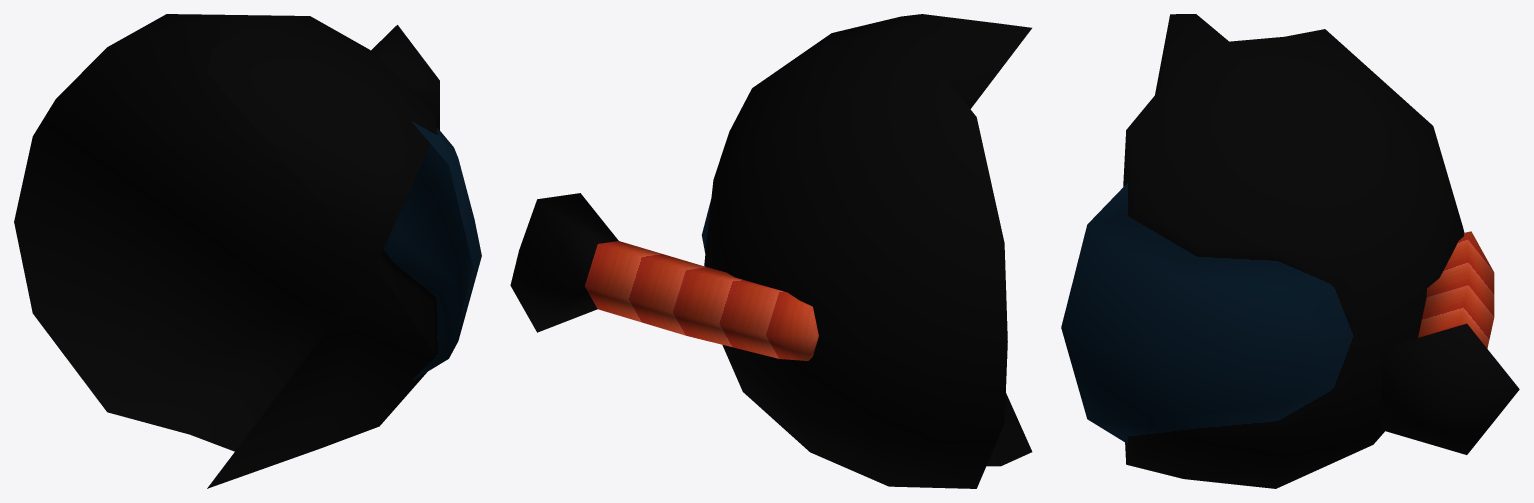
The model's file is hlmt_wig_samurai.dae.
3 renders of one model, left to right at view 1: azimuth 30°, elevation 25°; view 2: azimuth 150°, elevation 25°; view 3: azimuth 270°, elevation 25°, orthographic.
Visible parts, largest first — view 1: hlmt_wig_samurai; view 2: hlmt_wig_samurai; view 3: hlmt_wig_samurai.
Boxes of the visible parts, x1=… form: hlmt_wig_samurai: x1=14, y1=14, x2=481, y2=488; hlmt_wig_samurai: x1=510, y1=14, x2=1032, y2=488; hlmt_wig_samurai: x1=1061, y1=14, x2=1519, y2=488.
Bounding box in the file's own units: 24.76 × 22.84 × 21.66.
2 materials, 2 textured.
